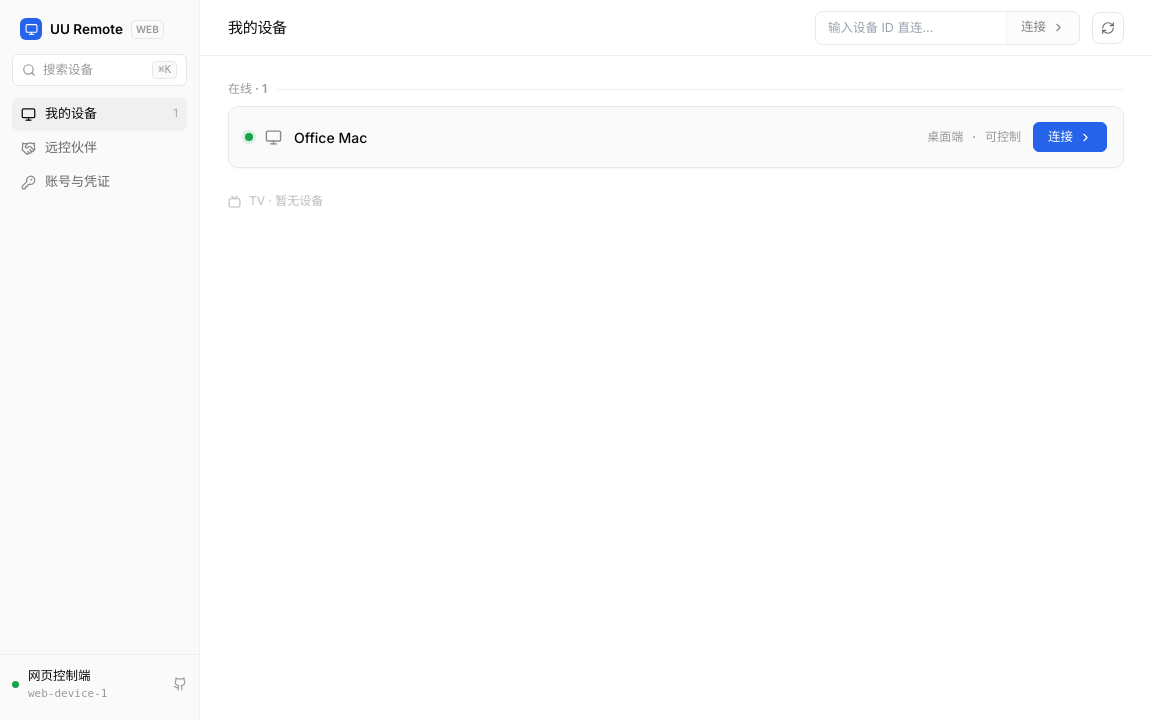
Test: App remote assistance › waits for partner confirmation when the verification code is left empty
Expected: the heading "我的设备" is shown, [228,18,287,37]
Click the link "远控伙伴".
click(59, 147)  # box [21,139,97,156]
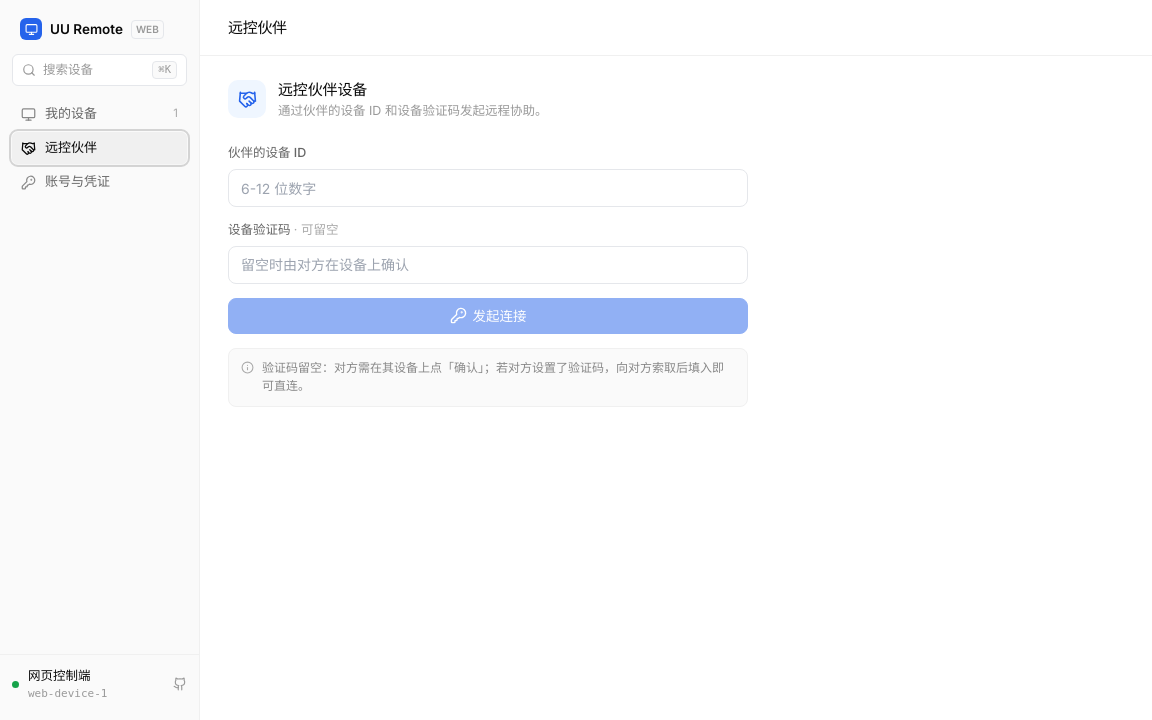
Expected: the heading "远控伙伴" is shown, [228,18,287,37]
Type "982123456" into the field labelled "伙伴的设备 ID".
click(488, 188); type("982123456")  # box [228,169,748,207]
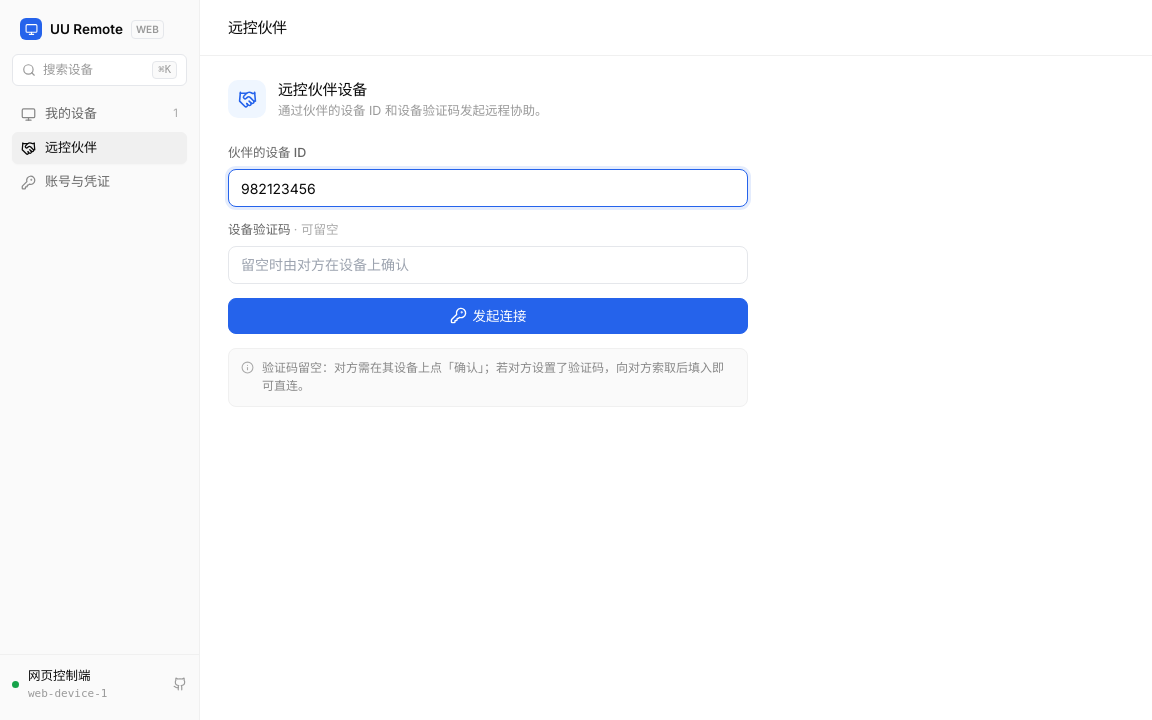
// 故意不填验证码：应直接走“等待对方确认”
Click the button "发起连接".
click(488, 316)  # box [228,298,748,334]
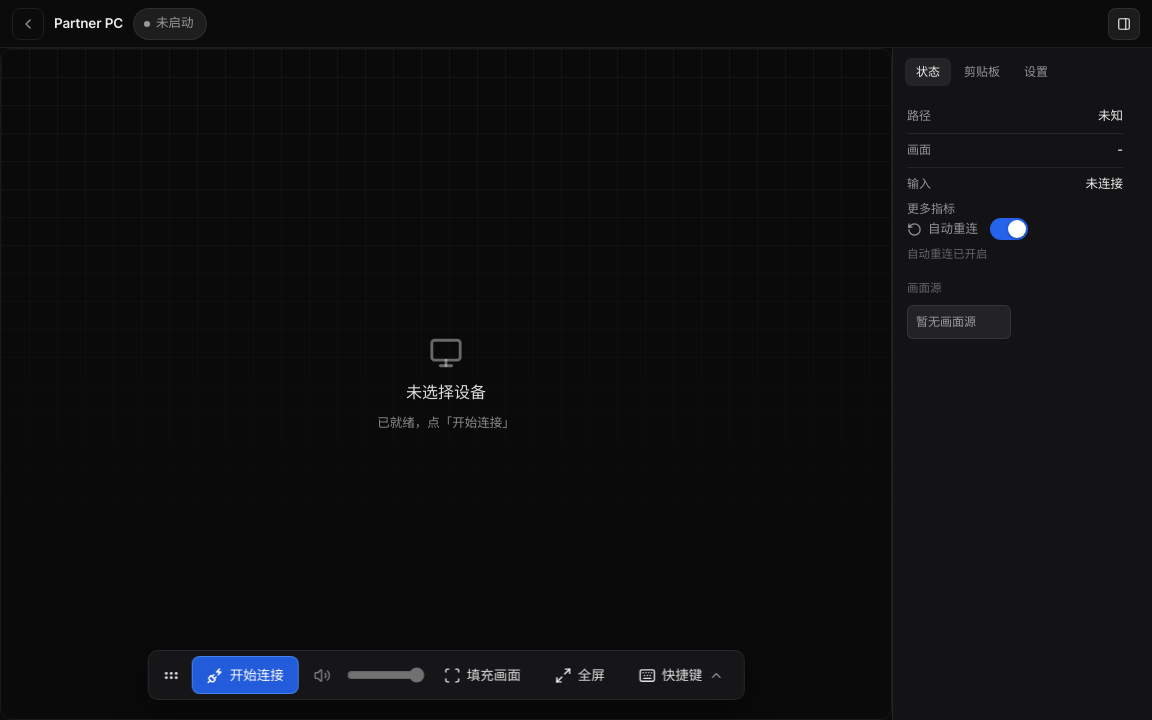
Expected: the heading "Partner PC" is shown, [54,16,123,31]
